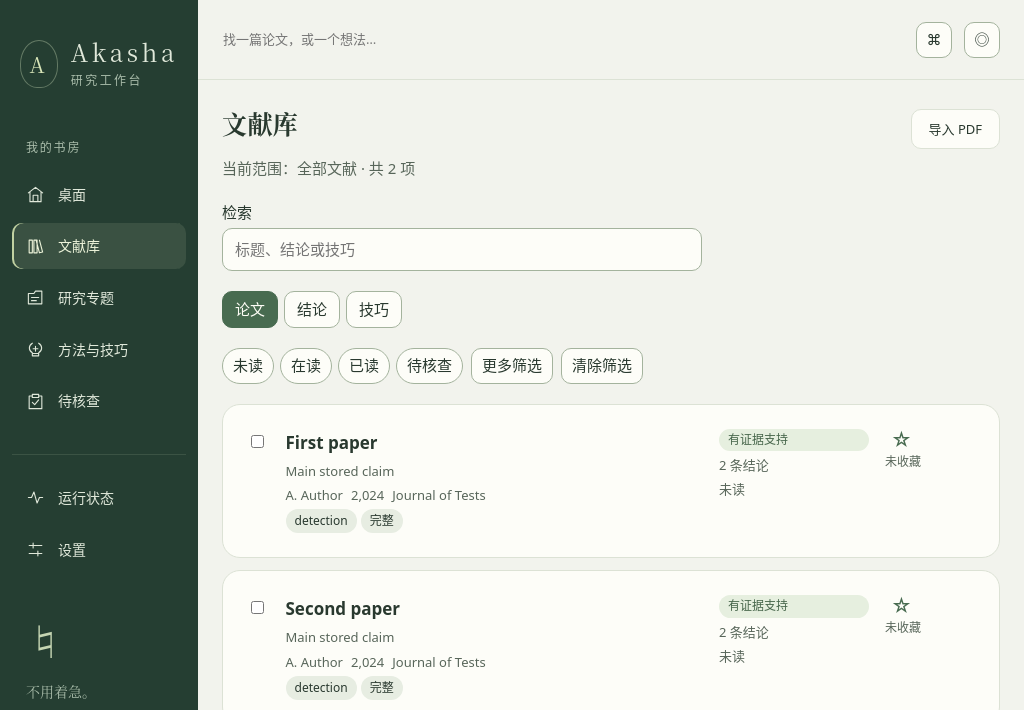
Test: UX-021 returning to the library keeps filters, scroll and selection › has no hidden "select everything" action
Check: the link "First paper" is shown, box [286,430,378,454]
Click the checkbox named "选择 First paper" at (258, 441), box [251,434,264,448]
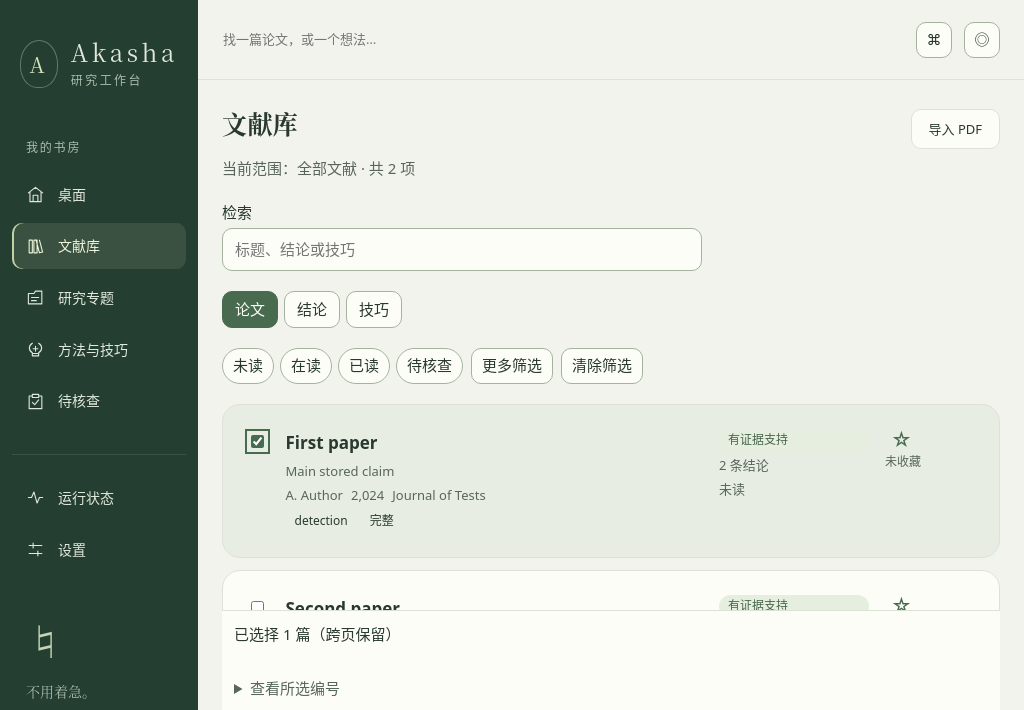
Check: the element named "批量操作托盘" shows "跨页保留", box [292,623,400,643]
